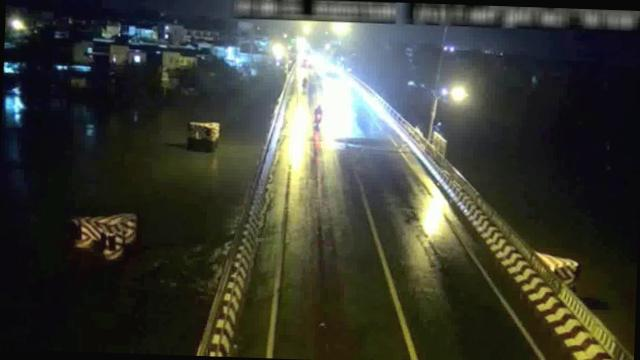Bike: (314, 103, 322, 124)
